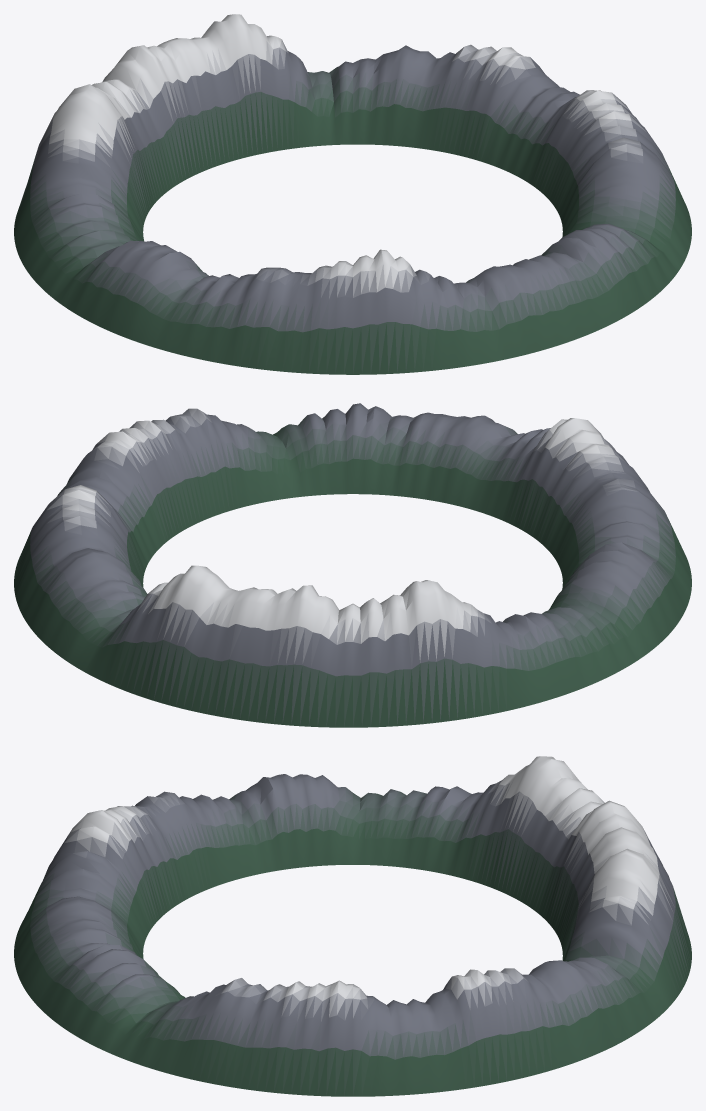
File: ZB_sahne_daglar.glb
3 views of the same model, one above another, from view 1: azimuth 30°, elevation 25°; view 2: azimuth 150°, elevation 25°; view 3: azimuth 270°, elevation 25° (orthographic).
Parts seen in each view (by area): view 1: ZB_sahne_daglar; view 2: ZB_sahne_daglar; view 3: ZB_sahne_daglar.
Part boxes in pixels (<box>): ZB_sahne_daglar: <box>14,14,691,374</box>; ZB_sahne_daglar: <box>14,403,691,727</box>; ZB_sahne_daglar: <box>14,756,691,1096</box>.
Size of the model in its own units: 840 by 160 by 840.
